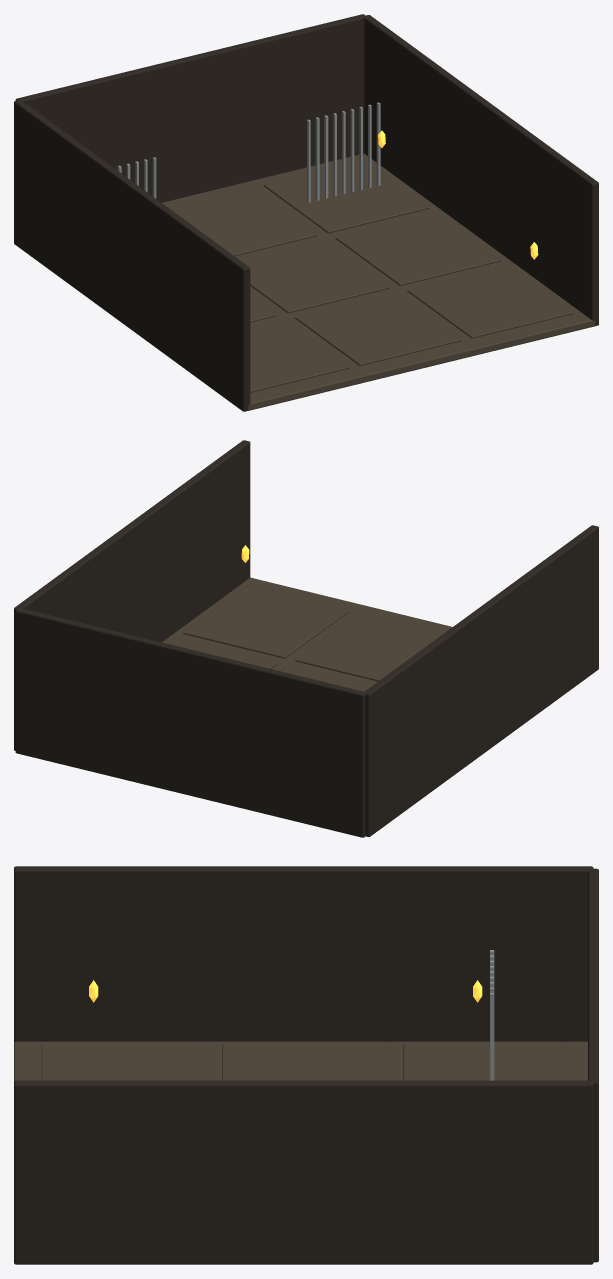
Rendered from dungeon_interior.glb.
3 views of the same model, one above another, from view 1: azimuth 30°, elevation 25°; view 2: azimuth 150°, elevation 25°; view 3: azimuth 270°, elevation 25° (orthographic). The views are drawn at different scales.
Visible parts, largest first — view 1: InteriorBackWall, InteriorLeftWall, InteriorRightWall, InteriorFloor, DungeonFlagstone.003, DungeonFlagstone.006, DungeonFlagstone.007, DungeonFlagstone.004, DungeonFlagstone.008, DungeonFlagstone.005, DungeonFlagstone; view 2: InteriorBackWall, InteriorLeftWall, InteriorRightWall, DungeonFlagstone.006, DungeonFlagstone.003, InteriorFloor, DungeonFlagstone.007, DungeonFlagstone.004; view 3: InteriorRightWall, InteriorLeftWall, DungeonFlagstone, DungeonFlagstone.001, DungeonFlagstone.002, InteriorFloor, InteriorBackWall.
Part boxes in pixels (x1,y1,x2,y2): InteriorBackWall: (15,14,365,202); InteriorLeftWall: (14,100,250,411); InteriorRightWall: (364,15,598,325); InteriorFloor: (162,153,594,410); DungeonFlagstone.003: (295,292,461,365); DungeonFlagstone.006: (407,265,573,338); DungeonFlagstone.007: (335,212,501,285); DungeonFlagstone.004: (241,240,389,313); DungeonFlagstone.008: (263,160,429,233); DungeonFlagstone.005: (169,187,317,256); DungeonFlagstone: (250,320,349,392); InteriorBackWall: (15,608,365,837); InteriorLeftWall: (364,525,598,836); InteriorRightWall: (14,440,250,750); DungeonFlagstone.006: (183,585,349,658); DungeonFlagstone.003: (295,612,443,681); InteriorFloor: (162,577,452,685); DungeonFlagstone.007: (168,638,277,668); DungeonFlagstone.004: (280,665,371,691); InteriorRightWall: (14,1080,593,1264); InteriorLeftWall: (14,866,593,1041); DungeonFlagstone: (41,1044,204,1080); DungeonFlagstone.001: (222,1044,385,1080); DungeonFlagstone.002: (403,1044,566,1080); InteriorFloor: (14,1041,587,1081); InteriorBackWall: (588,868,598,1262).
Size of the model in its own units: 14.3 by 5.5 by 16.15.
